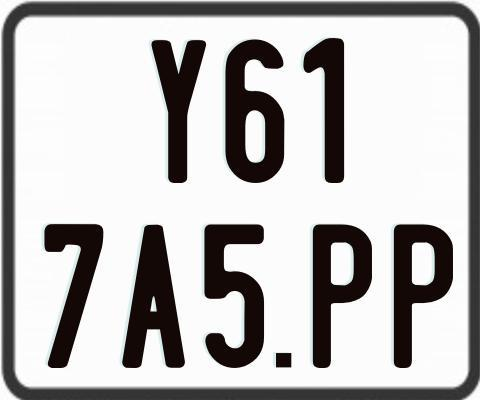1: (301, 35, 343, 185)
5: (203, 221, 266, 365)
6: (224, 38, 288, 187)
7: (41, 222, 105, 369)
A: (122, 224, 191, 367)
P: (310, 221, 373, 365), (391, 222, 452, 367)
Y: (148, 38, 204, 185)
